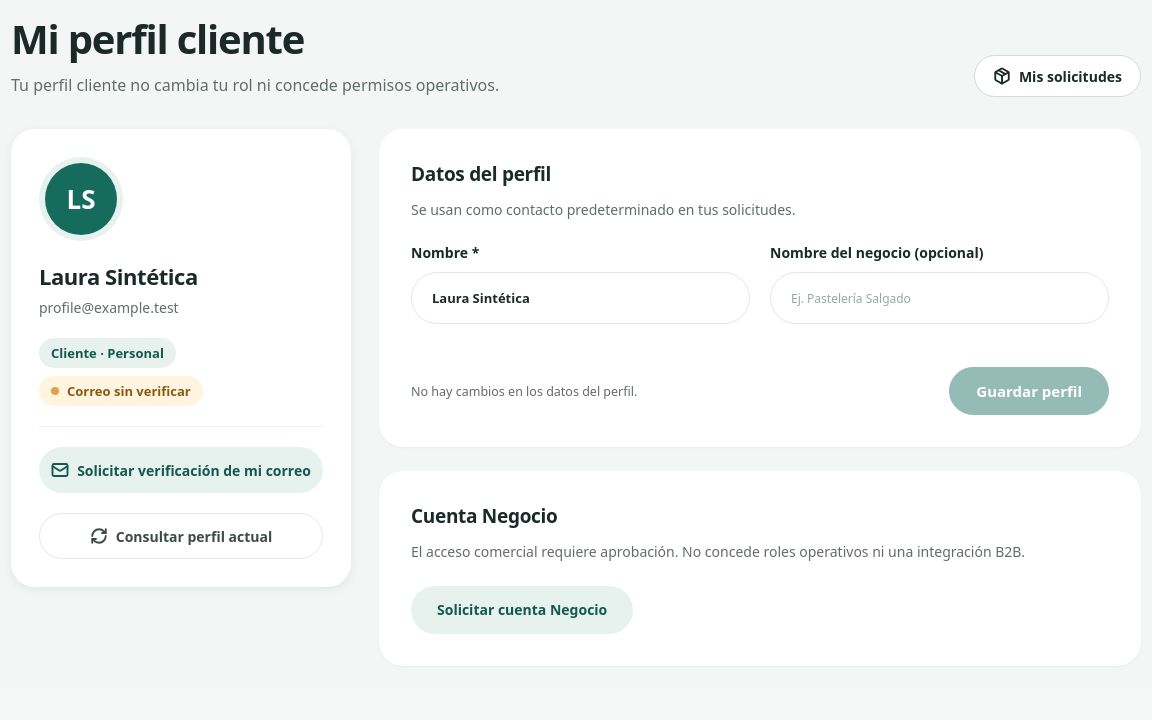
Test: preloads identity and only saves valid changed data, then refreshes identity
Expected: the text "LS" is shown, [45,163,117,235]
Expected: the button "Guardar perfil" is disabled, [949,367,1109,415]
Replace the text in the field labelled "Nombre *" with "Laura Actualizada" at (580, 298), box [411,272,750,324]
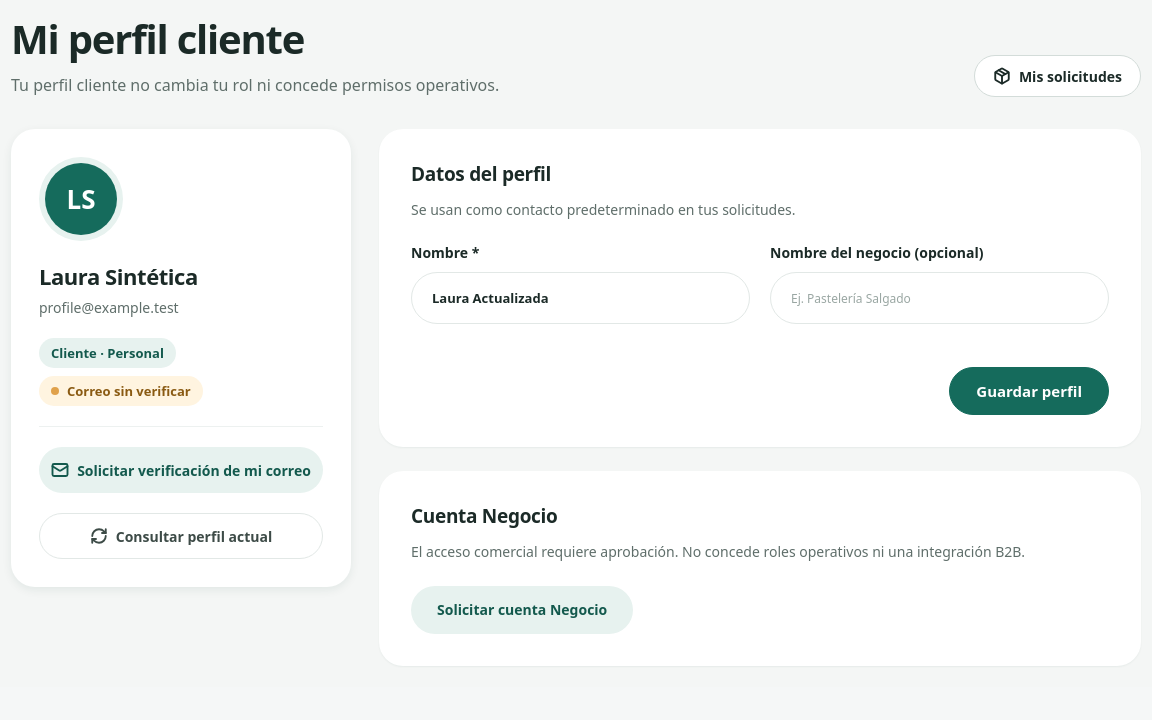
Click the button "Guardar perfil" at (1029, 391), box [949,367,1109,415]
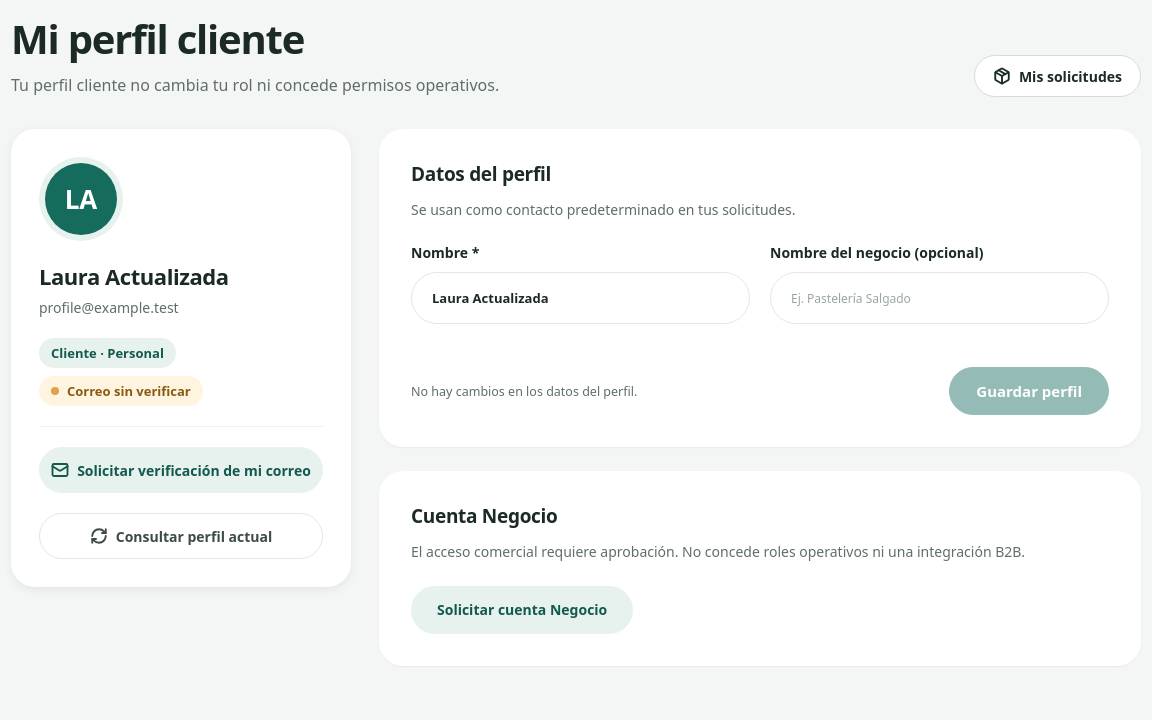
Expected: the heading "Laura Actualizada" is shown, [39,261,229,291]
